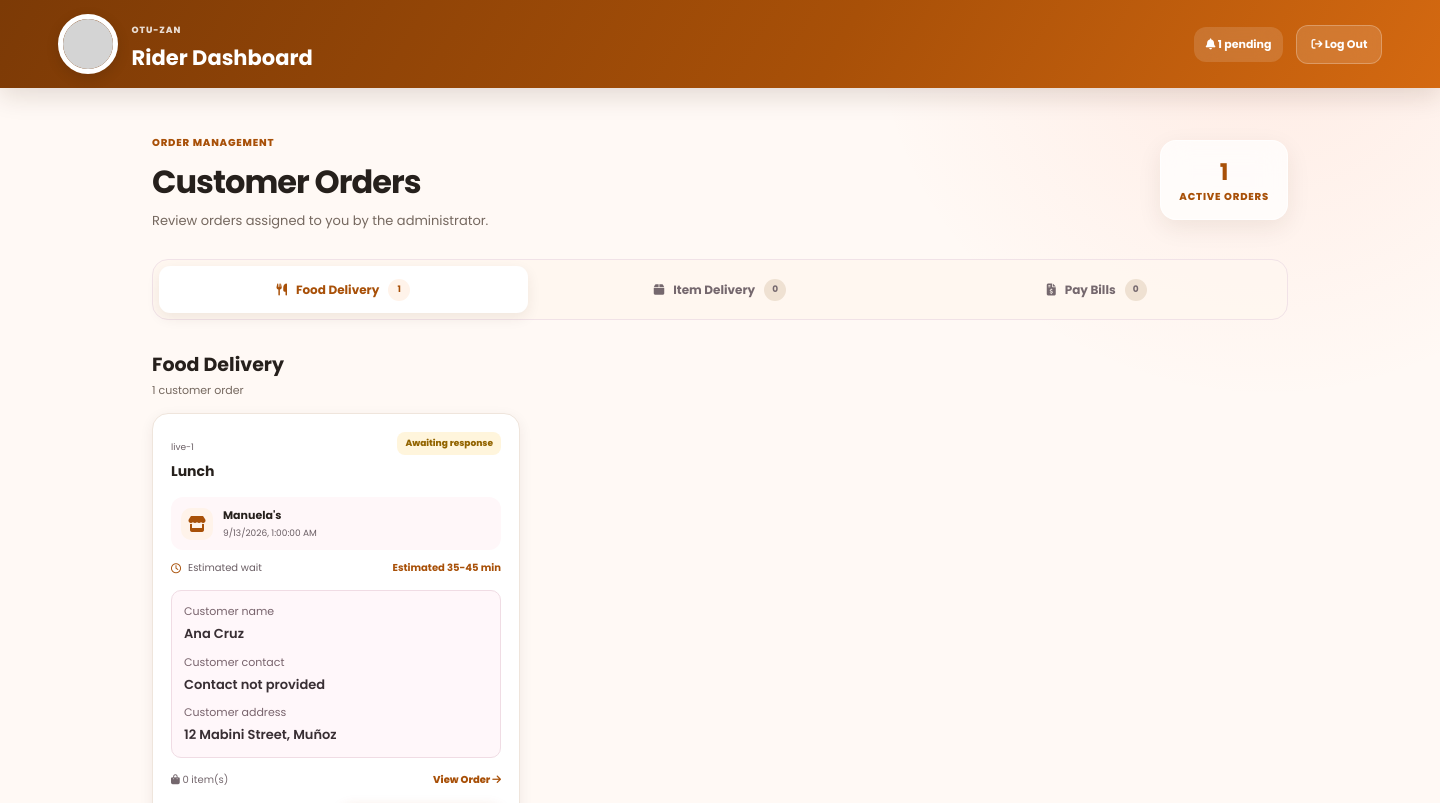
Scenario: rider cards and order details display the saved customer identity
Expected: the text "Ana Cruz" is shown, [184,624,244,643]
Expected: the text "12 Mabini Street, Muñoz" is shown, [184,725,337,744]
Click the button "View Order" at (467, 780), box [433,772,501,788]
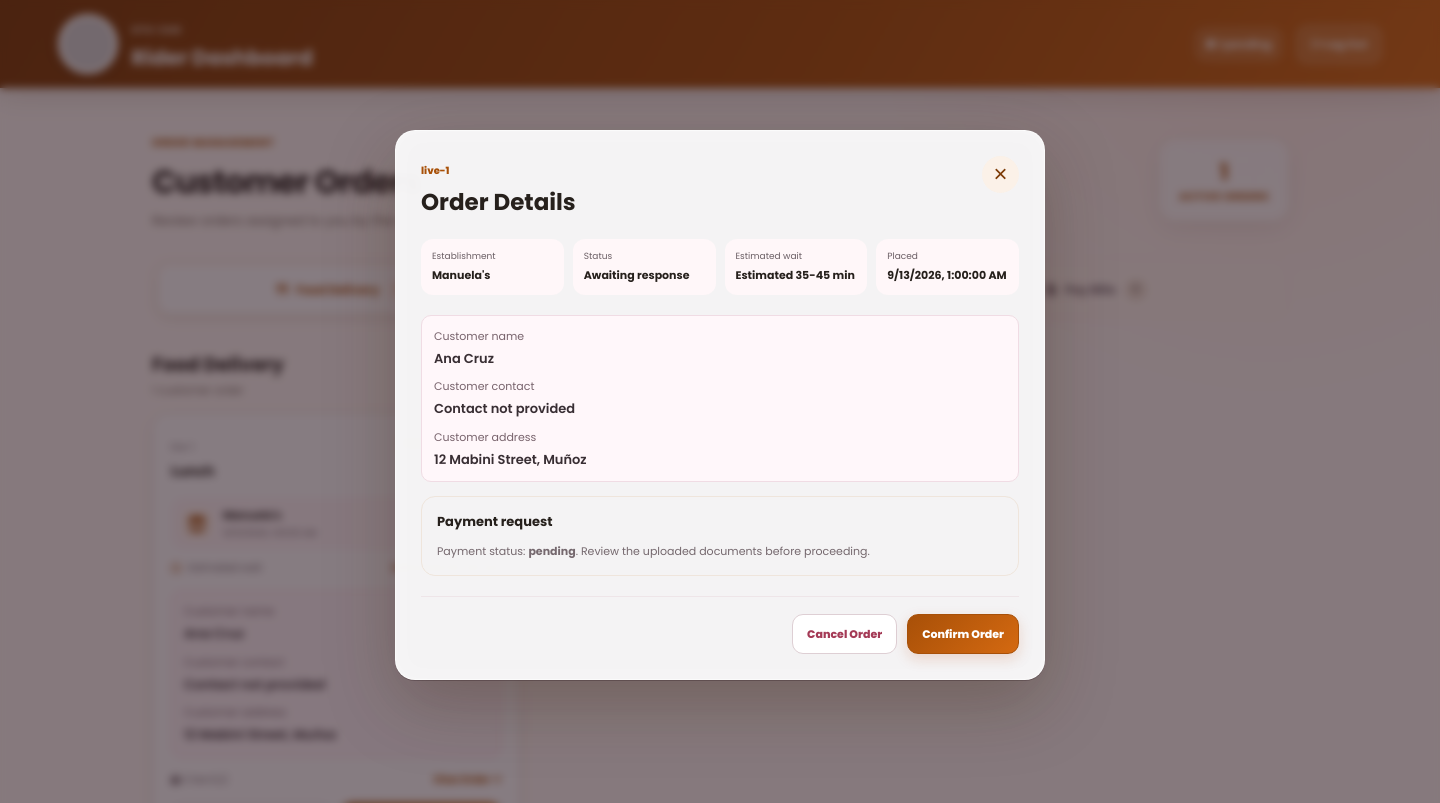
Result: the text "Ana Cruz" is shown at [434,349,494,368]
Result: the text "12 Mabini Street, Muñoz" is shown at [434,450,587,469]
